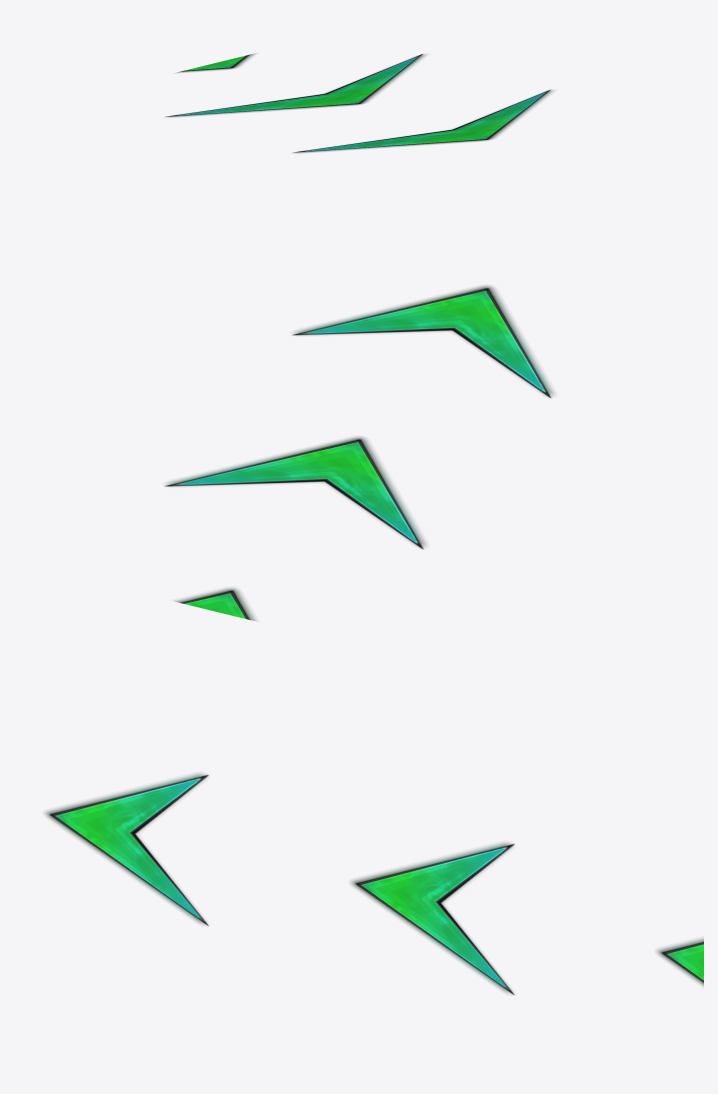
File: nitro_platform_zipper.glb
3 views of the same model, one above another, from view 1: azimuth 30°, elevation 25°; view 2: azimuth 150°, elevation 25°; view 3: azimuth 270°, elevation 25° (orthographic). The views are drawn at different scales.
Parts seen in each view (by area): view 1: zipper_jungle.png__; view 2: zipper_jungle.png__; view 3: zipper_jungle.png__.
Part boxes in pixels (box(x1,y1,x2,y2)): zipper_jungle.png__: box(165, 53, 553, 152); zipper_jungle.png__: box(164, 285, 553, 620); zipper_jungle.png__: box(45, 773, 703, 995).
Bounding box in the file's own units: 3.74 × 1.16 × 4.64.
1 material, 1 textured.
